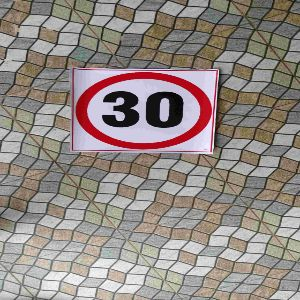speedlimit30: (70, 67, 216, 153)
